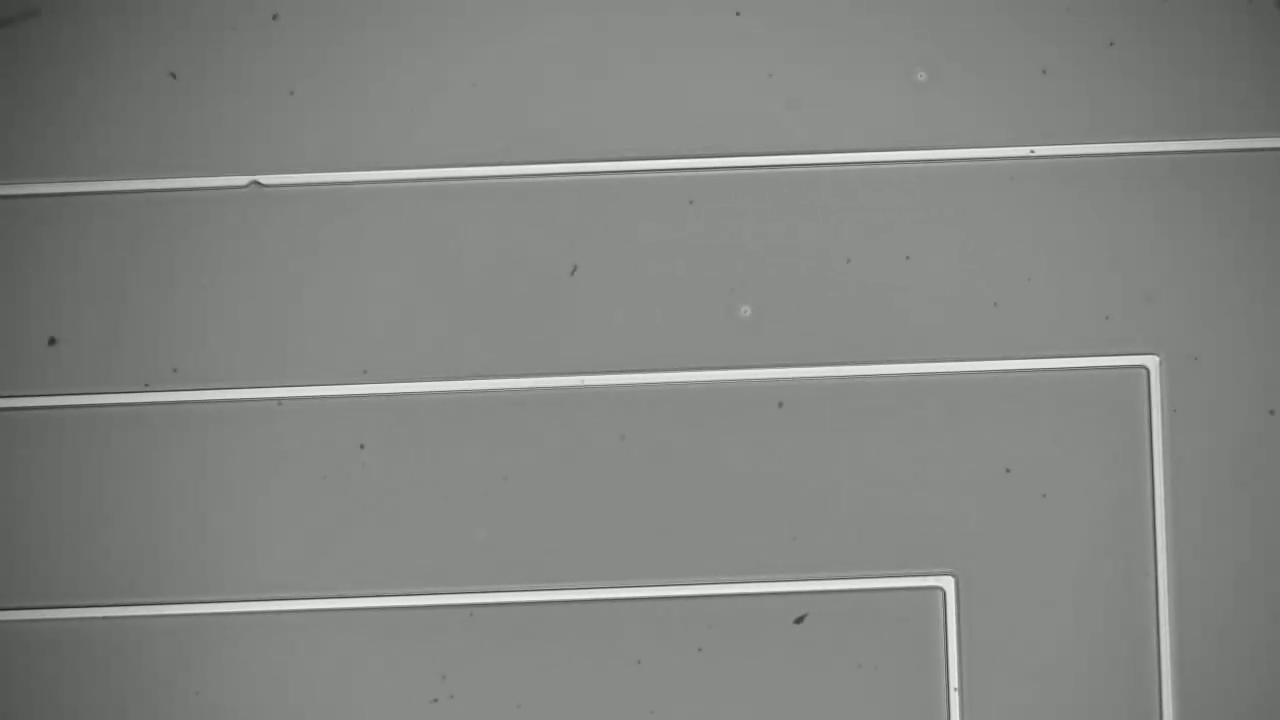edge_bite: (238, 168, 280, 199)
